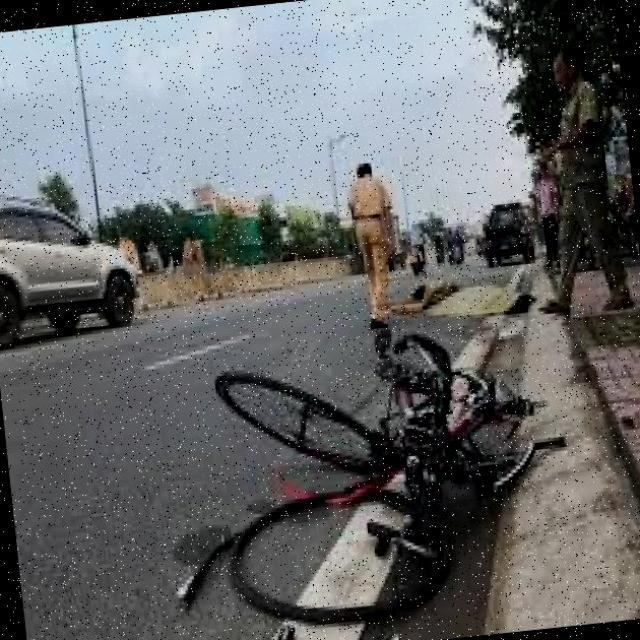accident: (193, 267, 591, 620)
